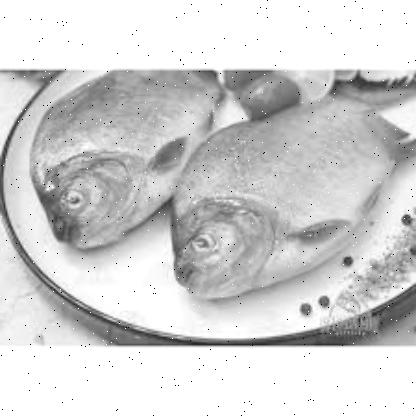ikan-pacu: (168, 96, 390, 296), (27, 68, 215, 244)
